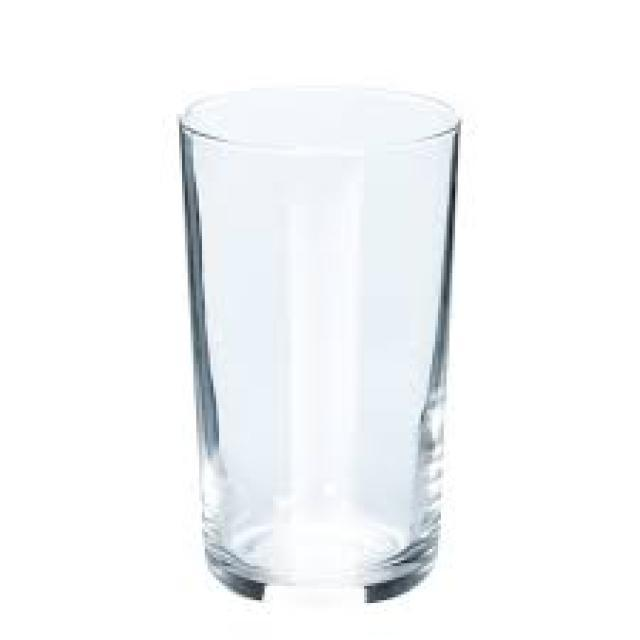Glass: (171, 81, 463, 603)
